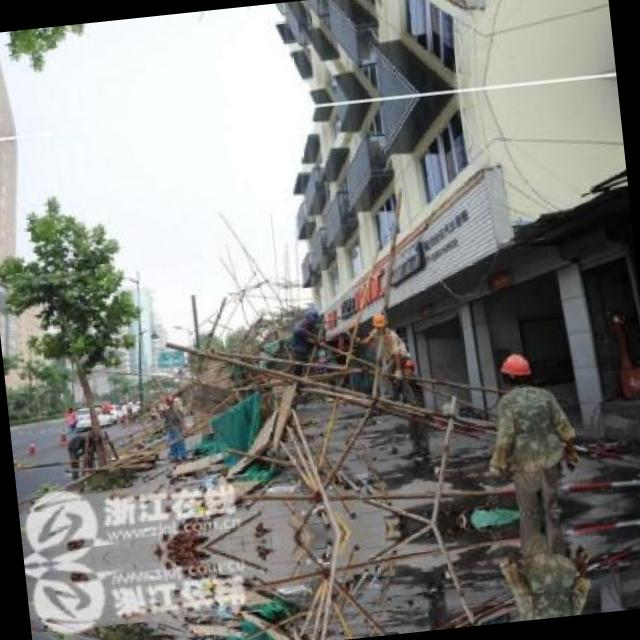helmet: (494, 349, 536, 388), (395, 353, 415, 375), (369, 309, 388, 331), (300, 304, 317, 324)
